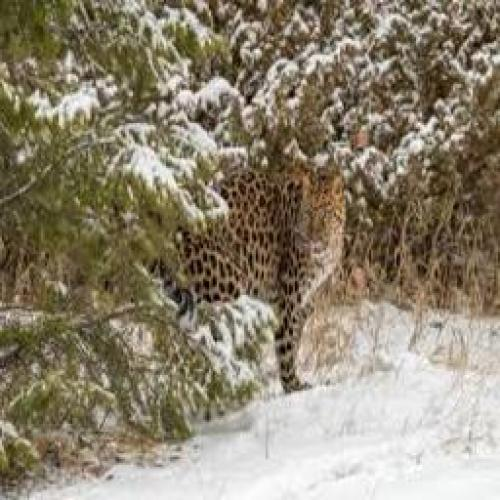amur_leopard-endangered: (184, 163, 350, 392)
